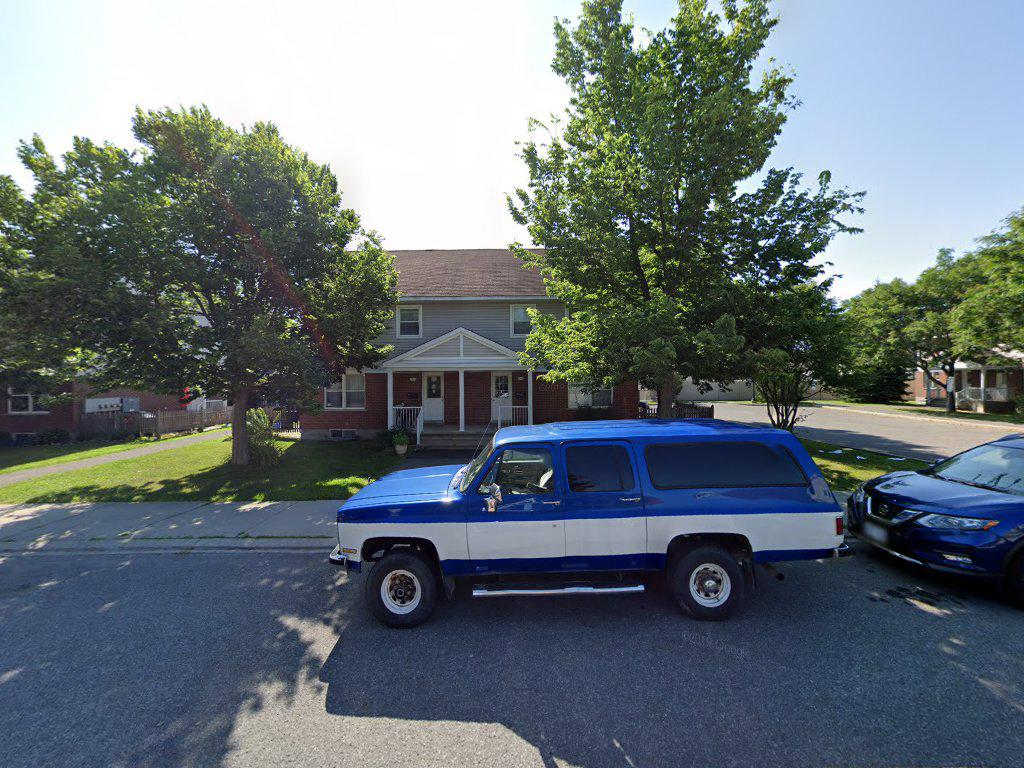trunk: (228, 385, 251, 471), (656, 375, 672, 425)
